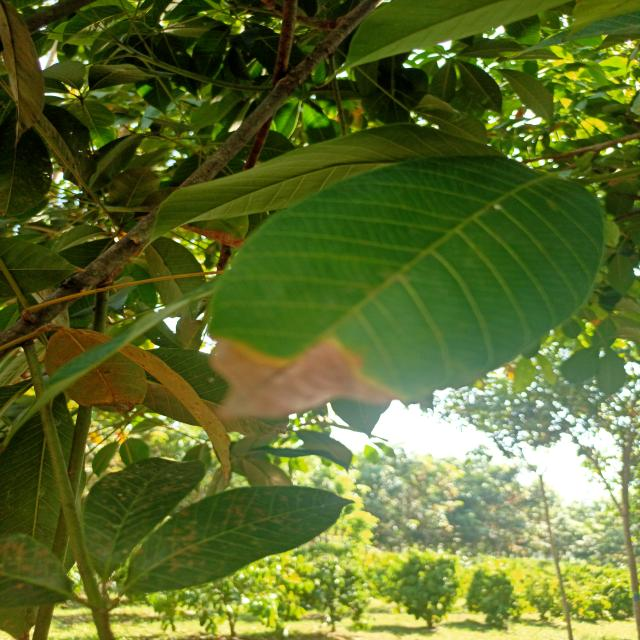Leaf-Blight: (211, 334, 401, 416)
